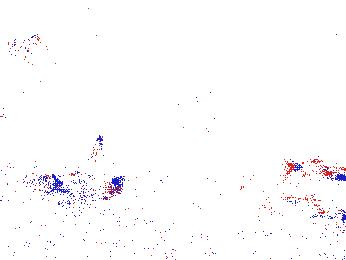X-ray fish: (4, 34, 60, 66), (312, 219, 346, 247)
redtail glassfish: (281, 188, 346, 221), (286, 158, 346, 181)
